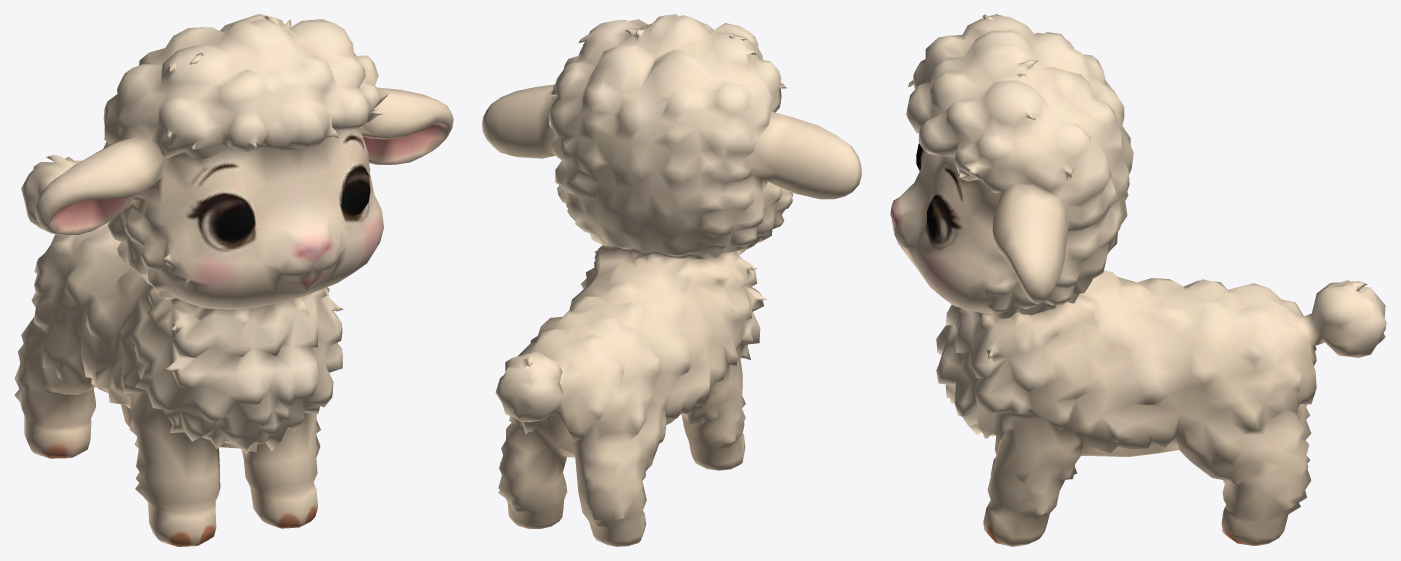
The model's file is lamb.dc77fd68.glb.
3 renders of one model, left to right at view 1: azimuth 30°, elevation 25°; view 2: azimuth 150°, elevation 25°; view 3: azimuth 270°, elevation 25°, orthographic. The views are drawn at different scales.
Visible parts, largest first — view 1: tripo_node_298a334b-f442-4eaf-a8e0-7f1260d14ce5; view 2: tripo_node_298a334b-f442-4eaf-a8e0-7f1260d14ce5; view 3: tripo_node_298a334b-f442-4eaf-a8e0-7f1260d14ce5.
Part boxes in pixels (x1,y1,x2,y2): tripo_node_298a334b-f442-4eaf-a8e0-7f1260d14ce5: (14,14,453,546); tripo_node_298a334b-f442-4eaf-a8e0-7f1260d14ce5: (482,14,861,546); tripo_node_298a334b-f442-4eaf-a8e0-7f1260d14ce5: (890,14,1386,546).
Bounding box in the file's own units: 0.8769 × 0.998 × 0.9277.
Materials: 1 (1 with a texture image).
